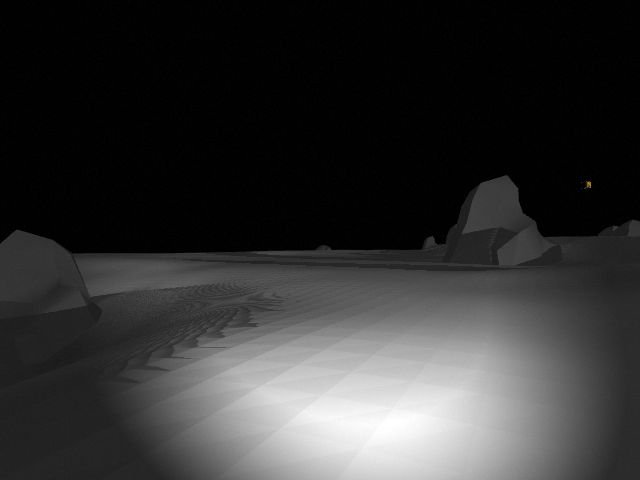cubesat: (578, 178, 594, 194)
